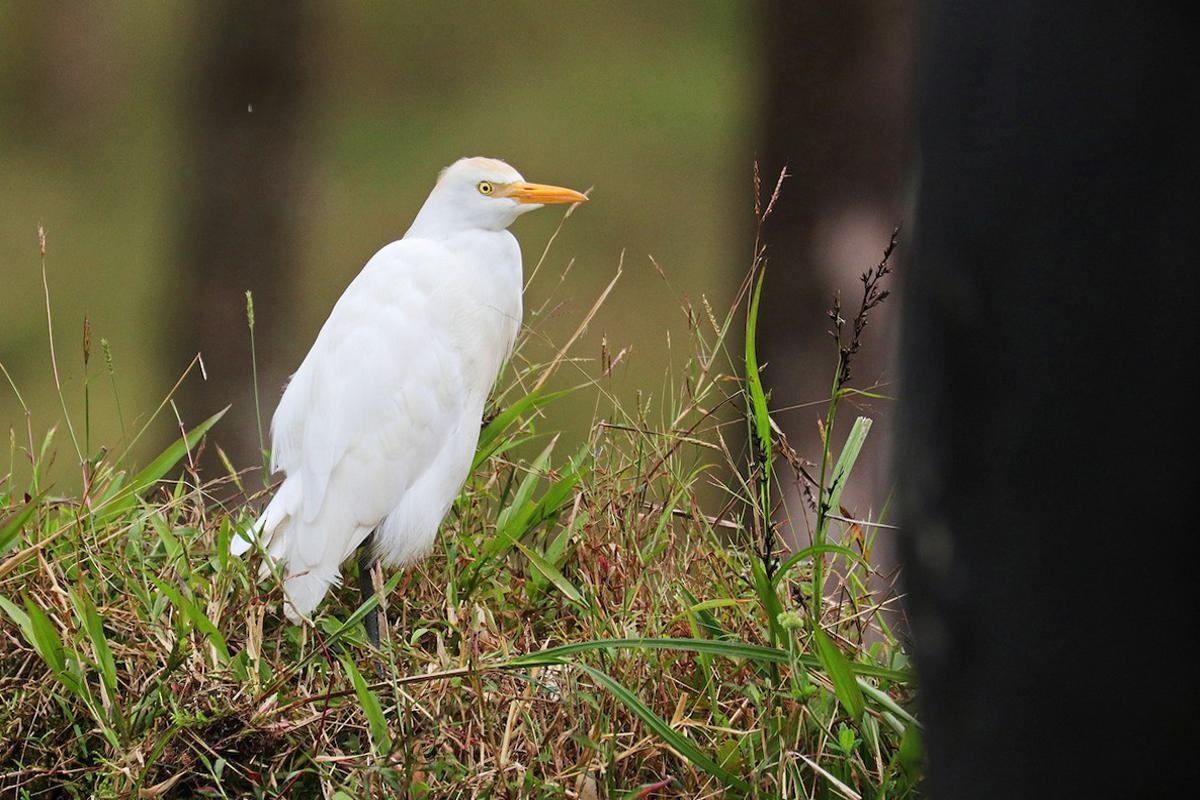egret: (242, 147, 598, 613)
